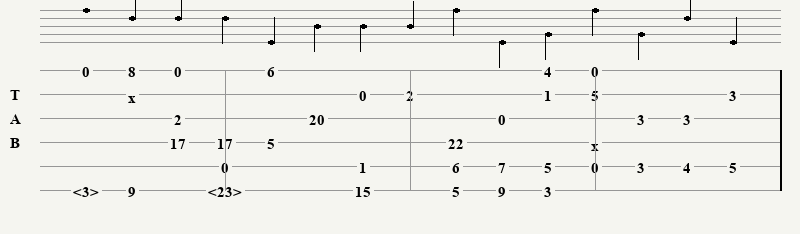0: (82, 63, 94, 77), (174, 63, 186, 77), (221, 159, 233, 173), (359, 87, 371, 101), (498, 111, 510, 125), (591, 63, 603, 77), (591, 159, 603, 173)
1: (359, 159, 371, 173), (544, 87, 556, 101)
15: (355, 183, 375, 197)
17: (170, 135, 190, 149), (217, 135, 237, 149)
2: (174, 111, 186, 125), (406, 87, 418, 101)
20: (309, 111, 329, 125)
22: (448, 135, 468, 149)
3: (544, 183, 556, 197), (637, 159, 649, 173), (637, 111, 649, 125), (683, 111, 695, 125), (729, 87, 741, 101)
4: (544, 63, 556, 77), (683, 159, 695, 173)
5: (267, 135, 279, 149), (452, 183, 464, 197), (544, 159, 556, 173), (591, 87, 603, 101), (729, 159, 741, 173)
6: (267, 63, 279, 77), (452, 159, 464, 173)
7: (498, 159, 510, 173)
8: (128, 63, 140, 77)
9: (128, 183, 140, 197), (498, 183, 510, 197)
harmonic: (208, 183, 246, 197), (73, 183, 103, 197)
x: (128, 89, 140, 100), (591, 137, 603, 148)
